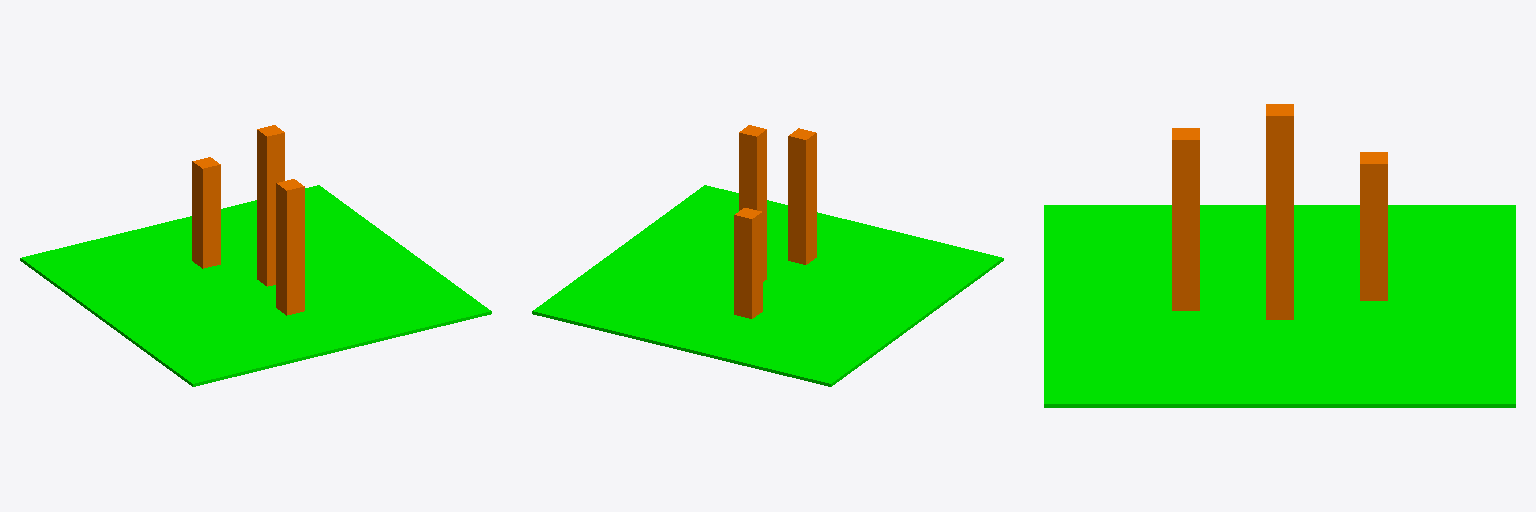
URDF robot description (scene_mingruiyu_0):
<?xml version="1.0" ?>
<!-- =================================================================================== -->
<!-- |    This document was autogenerated by xacro from scene_mingruiyu_5.xacro        | -->
<!-- |    EDITING THIS FILE BY HAND IS NOT RECOMMENDED                                 | -->
<!-- =================================================================================== -->
<robot name="scene_mingruiyu_0">
  <material name="dark_gray">
    <color rgba="0.2 0.2 0.2 1.0"/>
  </material>
  <material name="gray">
    <color rgba="0.3 0.3 0.3 1.0"/>
  </material>
  <material name="light_gray">
    <color rgba="0.4 0.4 0.4 1.0"/>
  </material>
  <material name="yellow">
    <color rgba="0.8 0.8 0.0 1.0"/>
  </material>
  <material name="orange">
    <color rgba="1.0 0.5 0.0 1.0"/>
  </material>
  <material name="green">
    <color rgba="0.0 1.0 0.0 1.0"/>
  </material>
  <material name="teal">
    <color rgba="0.0 1.0 1.0 1.0"/>
  </material>
  <material name="black">
    <color rgba="0.15 0.15 0.15 1.0"/>
  </material>
  <!-- GROUND PLANE -->
  <link name="ground_plane">
    <visual>
      <geometry>
        <box size="1 1 0.01"/>
      </geometry>
      <origin rpy="0 0 0" xyz="0 0 -0.005"/>
      <material name="green"/>
    </visual>
    <collision>
      <geometry>
        <box size="1 1 0.01"/>
      </geometry>
      <origin rpy="0 0 0" xyz="0 0 -0.005"/>
    </collision>
  </link>
  <link name="pole_1_root_link">
    <visual>
      <geometry>
        <box size="0.06 0.06 0.48"/>
      </geometry>
      <origin rpy="0 0 0" xyz="0 0 0.24"/>
      <material name="orange"/>
    </visual>
    <collision>
      <geometry>
        <box size="0.06 0.06 0.48"/>
      </geometry>
      <origin rpy="0 0 0" xyz="0 0 0.24"/>
    </collision>
  </link>
  <joint name="pole_1_fixture_joint" type="fixed">
    <parent link="ground_plane"/>
    <child link="pole_1_root_link"/>
    <origin rpy="0 0 0" xyz="0.05 0.0 0.0"/>
  </joint>
  <link name="pole_2_root_link">
    <visual>
      <geometry>
        <box size="0.06 0.06 0.4"/>
      </geometry>
      <origin rpy="0 0 0" xyz="0 0 0.2"/>
      <material name="orange"/>
    </visual>
    <collision>
      <geometry>
        <box size="0.06 0.06 0.4"/>
      </geometry>
      <origin rpy="0 0 0" xyz="0 0 0.2"/>
    </collision>
  </link>
  <joint name="pole_2_fixture_joint" type="fixed">
    <parent link="ground_plane"/>
    <child link="pole_2_root_link"/>
    <origin rpy="0 0 0" xyz="0.0 -0.2 0.0"/>
  </joint>
  <link name="pole_3_root_link">
    <visual>
      <geometry>
        <box size="0.06 0.06 0.32"/>
      </geometry>
      <origin rpy="0 0 0" xyz="0 0 0.16"/>
      <material name="orange"/>
    </visual>
    <collision>
      <geometry>
        <box size="0.06 0.06 0.32"/>
      </geometry>
      <origin rpy="0 0 0" xyz="0 0 0.16"/>
    </collision>
  </link>
  <joint name="pole_3_fixture_joint" type="fixed">
    <parent link="ground_plane"/>
    <child link="pole_3_root_link"/>
    <origin rpy="0 0 0" xyz="-0.05 0.2 0.0"/>
  </joint>
</robot>

--- What the picture shows (computed from the rendered views, not written in the file) ---
The picture shows the robot from 3 angles, left to right: view 1: azimuth 30°, elevation 25°; view 2: azimuth 150°, elevation 25°; view 3: azimuth 270°, elevation 25°; orthographic projection.
Model scene_mingruiyu_0 with 4 links and 3 joints (3 fixed), rooted at ground_plane, posed every joint at zero.
Visible links, largest first — view 1: ground_plane, pole_2_root_link, pole_1_root_link, pole_3_root_link; view 2: ground_plane, pole_2_root_link, pole_3_root_link, pole_1_root_link; view 3: ground_plane, pole_1_root_link, pole_2_root_link, pole_3_root_link.
Boxes of the visible links, x1,y1,x2,y2 form: ground_plane: [20, 185, 491, 386]; pole_2_root_link: [276, 179, 304, 315]; pole_1_root_link: [257, 125, 284, 286]; pole_3_root_link: [192, 157, 220, 268]; ground_plane: [532, 185, 1003, 386]; pole_2_root_link: [788, 128, 816, 264]; pole_3_root_link: [734, 208, 762, 318]; pole_1_root_link: [739, 125, 766, 281]; ground_plane: [1044, 205, 1515, 407]; pole_1_root_link: [1266, 104, 1293, 319]; pole_2_root_link: [1172, 128, 1199, 310]; pole_3_root_link: [1360, 152, 1387, 300].
Size in the robot's own frame: 1 by 1 by 0.49 metres.
Geometry: primitives only (box / cylinder / sphere), no mesh files.
